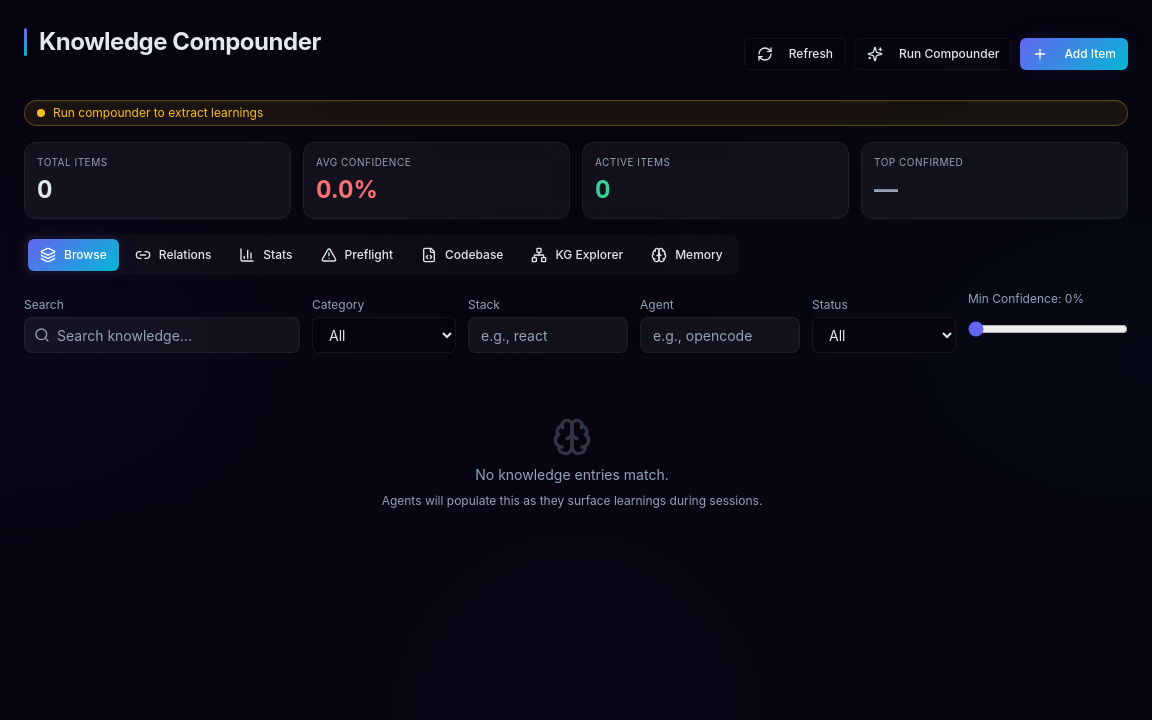
Test case: KnowledgePage › Run Compounder button click opens dialog
Click the button "Run Compounder".
click(933, 54)  # box [854,38,1012,70]
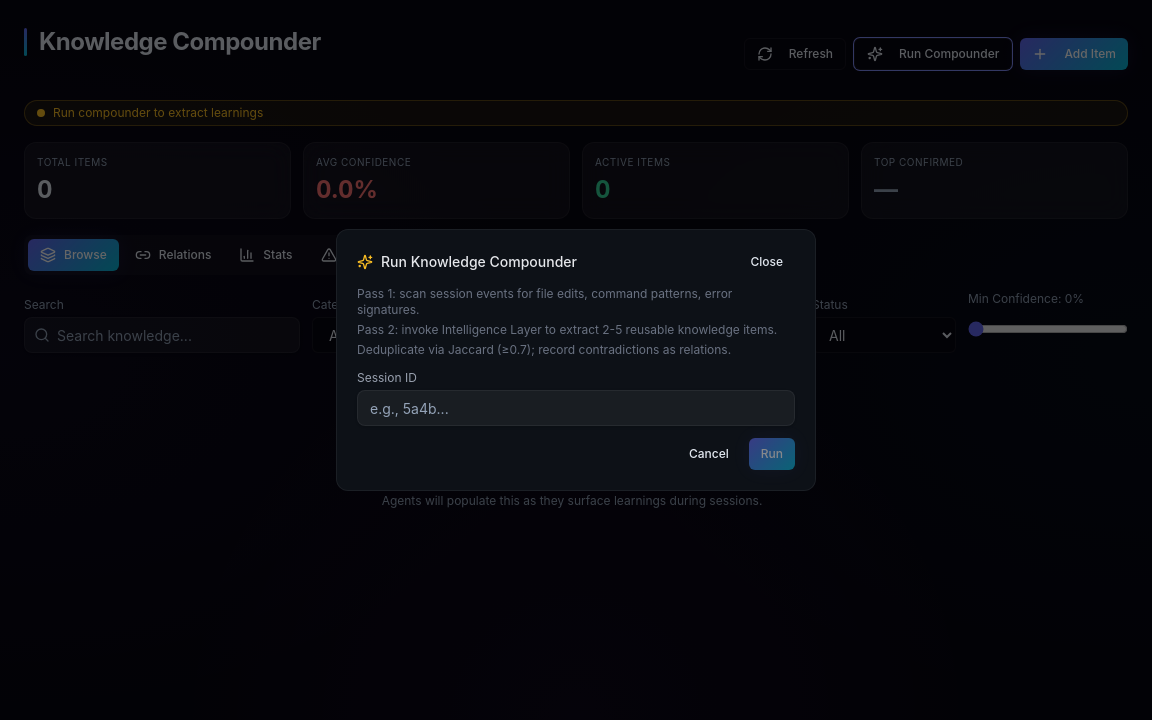
Expected: the text "Session ID" is shown, [357,370,417,385]
